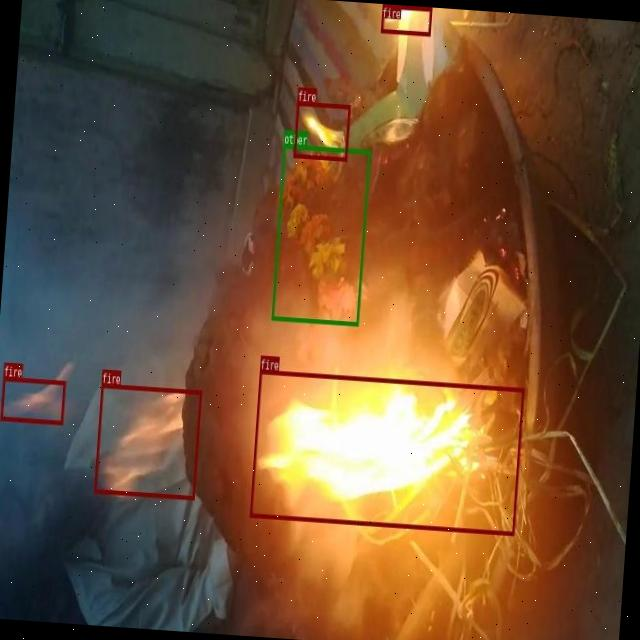fire: (249, 369, 524, 535), (94, 383, 202, 500), (292, 100, 350, 160), (0, 376, 65, 424), (379, 3, 430, 34)
